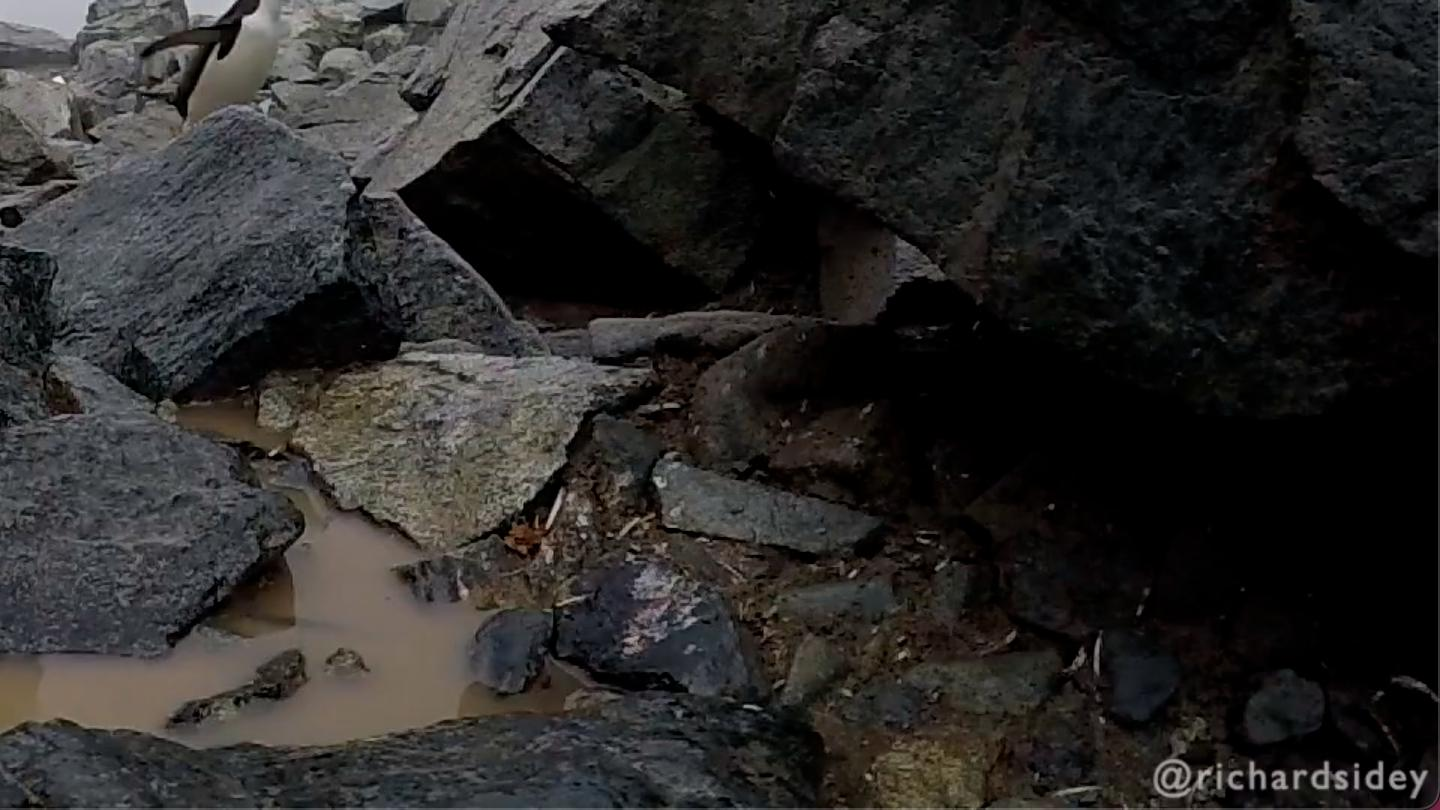Chinstrap Penguin: (0, 0, 264, 48)
